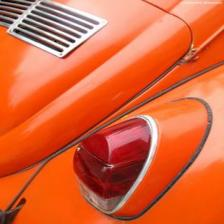orange: (1, 0, 224, 224), (12, 66, 224, 224), (94, 31, 224, 129), (113, 99, 207, 216)
